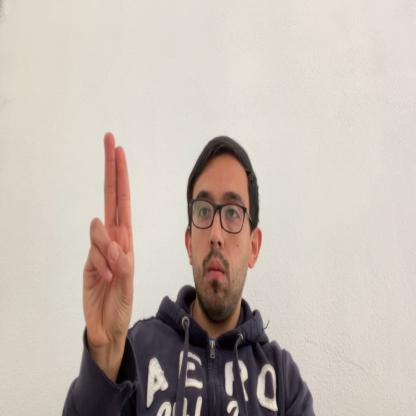U: (84, 131, 134, 356)
